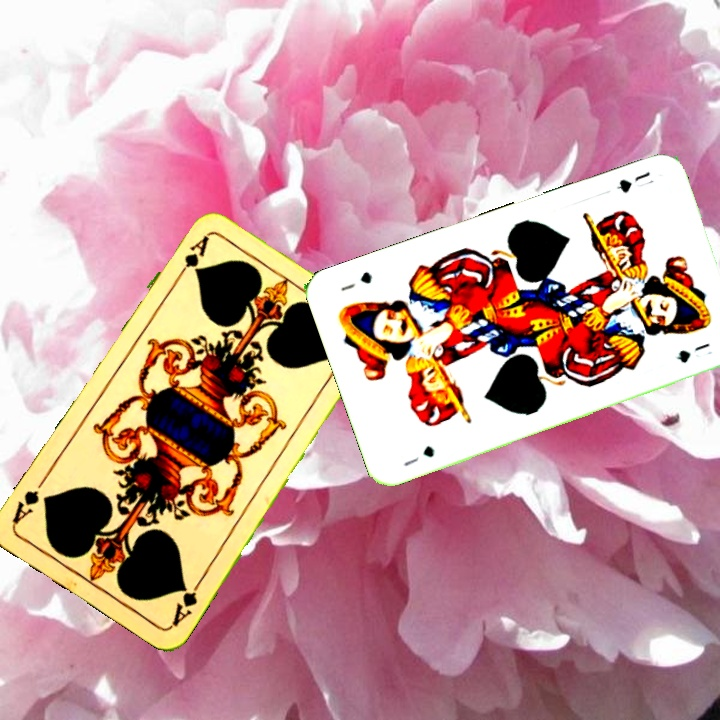GA: (170, 232, 211, 284), (167, 575, 205, 629)
GU: (613, 167, 656, 196), (400, 441, 437, 469)
